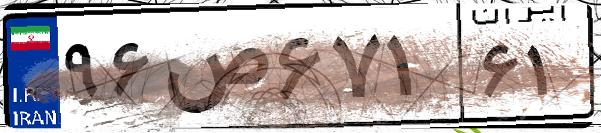1: (385, 28, 445, 110), (525, 38, 570, 115)
6: (270, 28, 330, 110), (475, 38, 525, 113), (110, 28, 158, 98)
7: (330, 28, 385, 110)
9: (57, 26, 110, 100)
ص: (158, 20, 270, 120)
